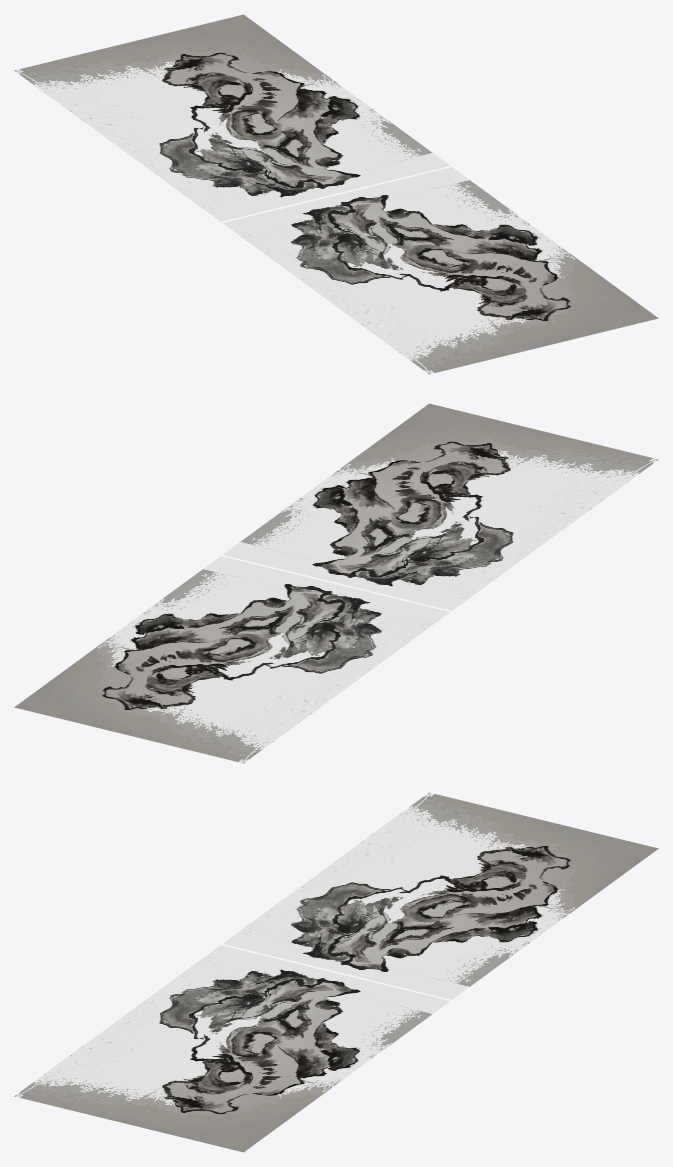
File: PPX_BABU6.fbx
3 views of the same model, one above another, from view 1: azimuth 30°, elevation 25°; view 2: azimuth 150°, elevation 25°; view 3: azimuth 330°, elevation 25° (orthographic).
Parts seen in each view (by area): view 1: bamboorock.png, bamboorock.png_2; view 2: bamboorock.png, bamboorock.png_2; view 3: bamboorock.png, bamboorock.png_2.
Boxes of the visible parts, x1,y1,x2,y2 form: bamboorock.png: (14,14,449,221); bamboorock.png_2: (223,167,658,374); bamboorock.png: (14,556,449,763); bamboorock.png_2: (223,403,658,610); bamboorock.png: (223,792,658,999); bamboorock.png_2: (14,945,449,1152).
Bounding box in the file's own units: 137 × 429 × 0.
1 material, 1 textured.
